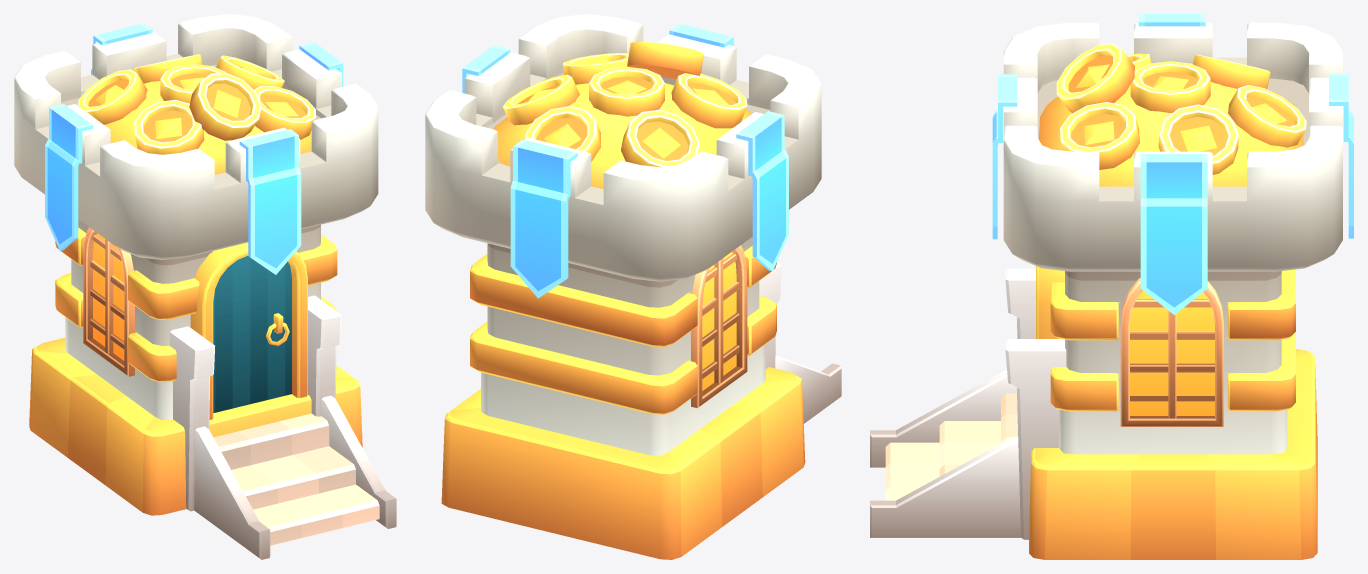
Rendered from casa2.glb.
3 views of the same model, side by side, from view 1: azimuth 30°, elevation 25°; view 2: azimuth 150°, elevation 25°; view 3: azimuth 270°, elevation 25° (orthographic). The views are drawn at different scales.
Parts seen in each view (by area): view 1: GoldTower_49; view 2: GoldTower_49; view 3: GoldTower_49.
Boxes of the visible parts, x1=… form: GoldTower_49: x1=14, y1=14, x2=396, y2=559; GoldTower_49: x1=425, y1=14, x2=841, y2=559; GoldTower_49: x1=870, y1=14, x2=1353, y2=559.
Bounding box in the file's own units: 0.8233 × 1.12 × 1.1.
Materials: 1 (1 with a texture image).
